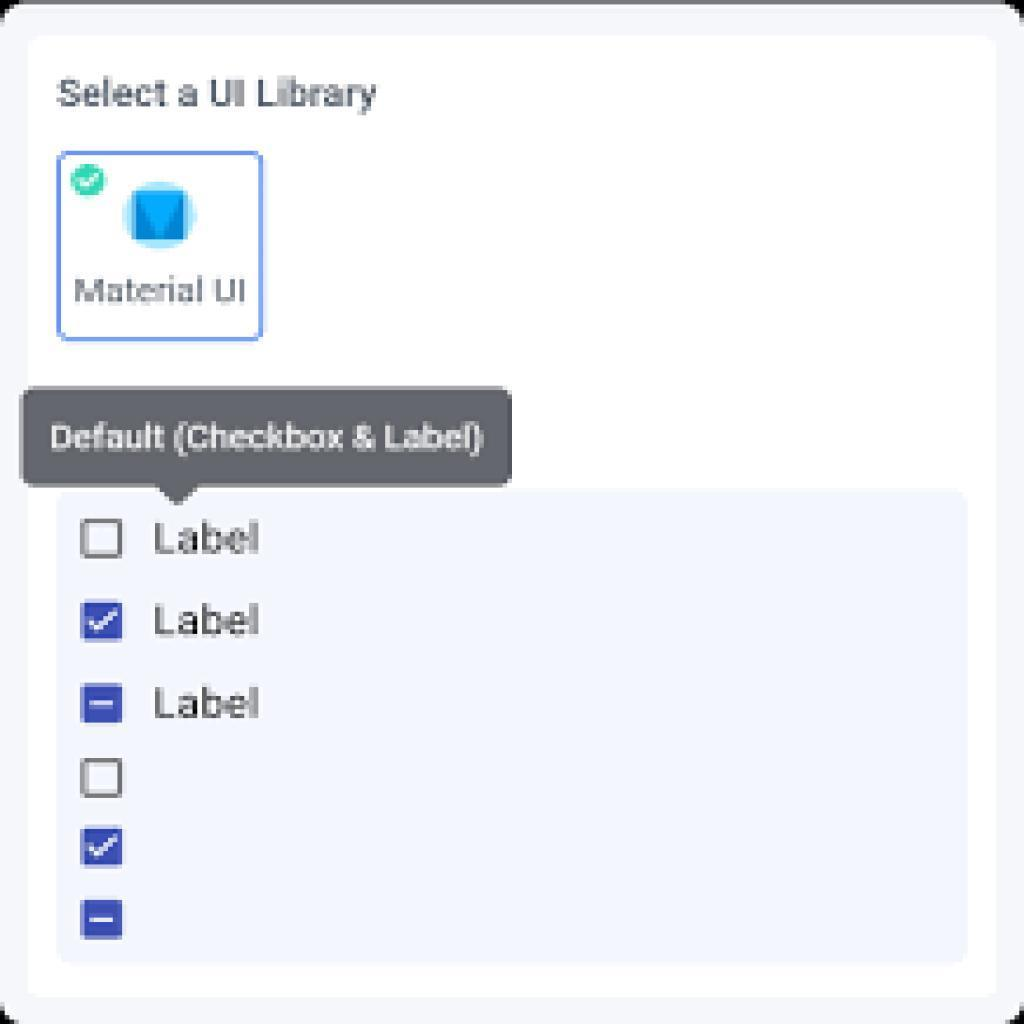checkbox: (67, 157, 113, 201), (81, 825, 123, 869), (82, 898, 124, 941), (81, 603, 125, 640), (83, 685, 125, 723), (81, 522, 124, 557), (82, 761, 121, 795)
label: (150, 678, 267, 726), (154, 598, 267, 644), (151, 517, 270, 560)
